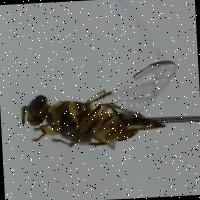Oriental-fruit-fly: (10, 49, 193, 174)
